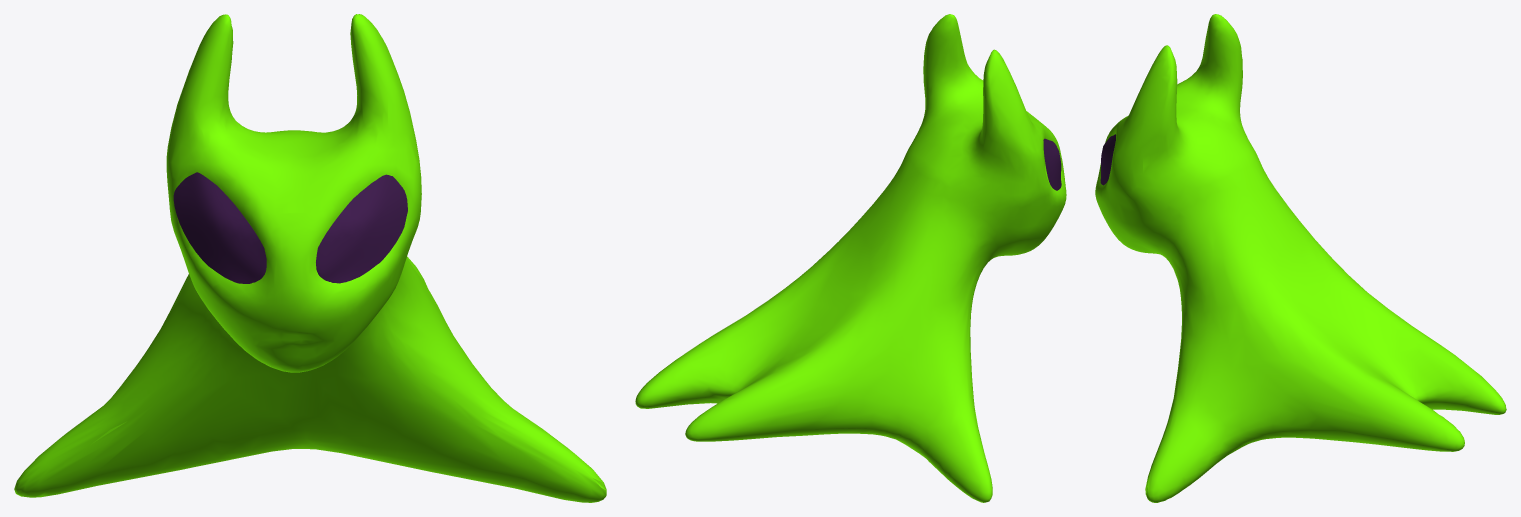
The model's file is ToyObject_144.fbx.
The picture shows the model from 3 angles, left to right: view 1: azimuth 30°, elevation 25°; view 2: azimuth 150°, elevation 25°; view 3: azimuth 270°, elevation 25°; orthographic projection. The views are drawn at different scales.
Visible parts, largest first — view 1: 1.001; view 2: 1.001; view 3: 1.001.
Boxes of the visible parts, x1,y1,x2,y2 form: 1.001: [14, 14, 606, 502]; 1.001: [635, 14, 1066, 502]; 1.001: [1095, 14, 1506, 502].
Size of the model in its own units: 0.1619 by 0.1901 by 0.1863.
